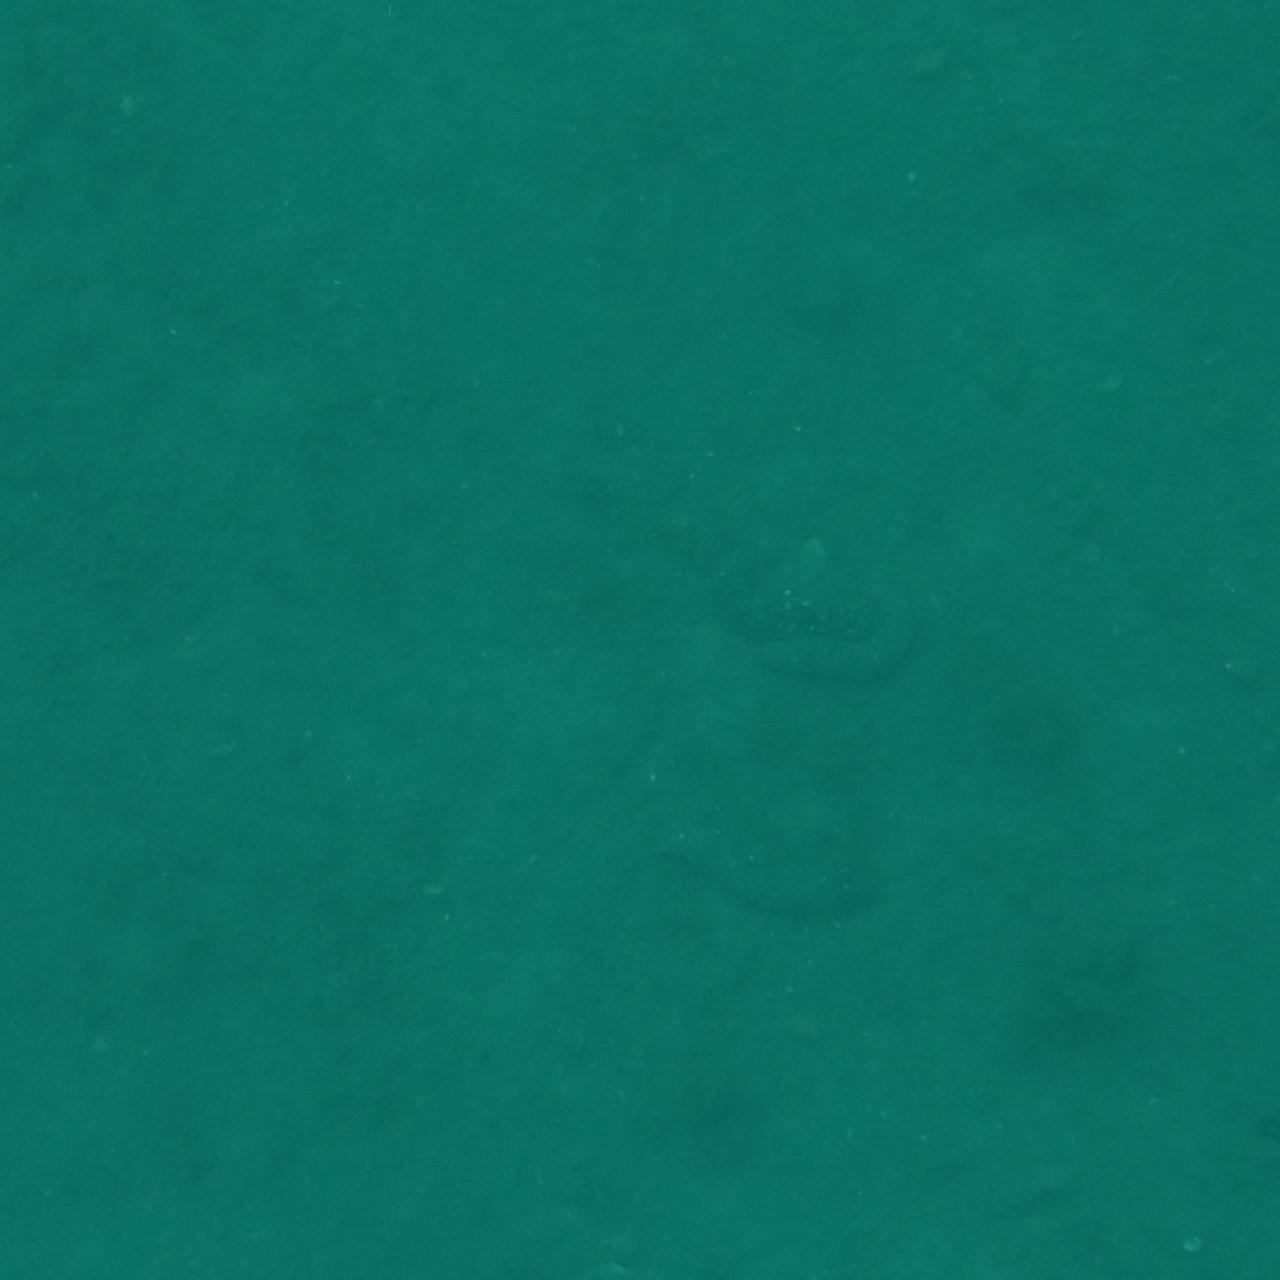Holothuria tubulosa: (693, 549, 947, 709), (654, 825, 928, 973), (0, 824, 154, 1069), (0, 164, 116, 352), (428, 1189, 634, 1280), (976, 1203, 1201, 1280), (621, 1130, 735, 1280), (116, 0, 275, 101), (1177, 0, 1280, 152), (0, 1055, 75, 1259), (89, 1201, 282, 1280), (0, 1024, 98, 1175), (0, 376, 70, 574), (1203, 20, 1280, 189), (75, 0, 306, 52), (1115, 0, 1280, 62), (1141, 0, 1280, 62), (335, 0, 519, 36), (0, 1150, 42, 1280)
